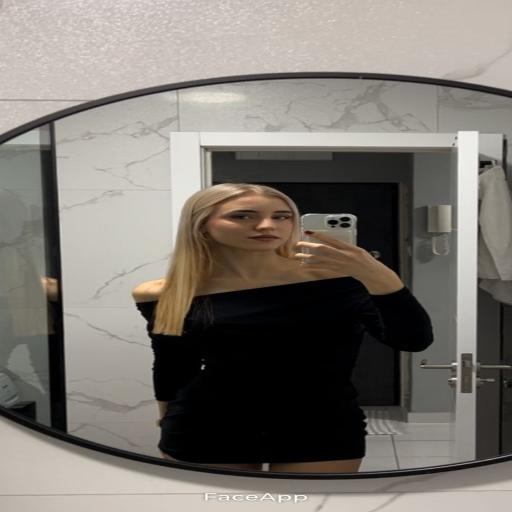masa: (214, 199, 296, 252)
